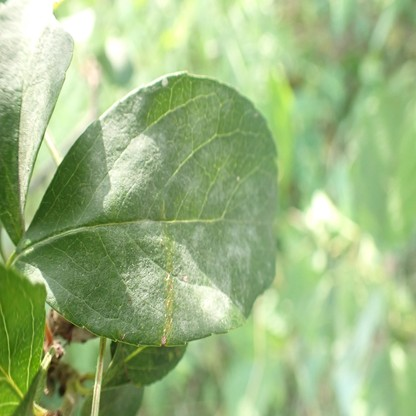powder: (15, 71, 281, 343), (0, 1, 76, 263)
